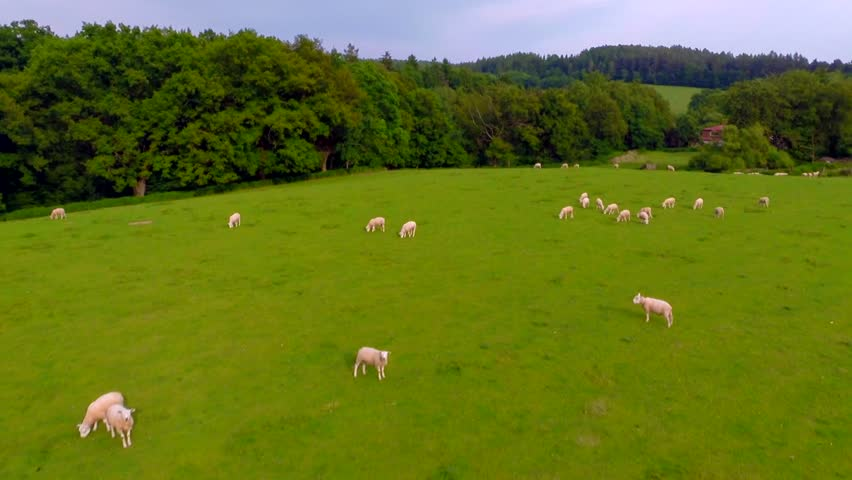sheep: (76, 390, 123, 435), (630, 294, 677, 328), (106, 402, 138, 447), (350, 346, 391, 380), (398, 216, 421, 240), (363, 215, 387, 236)
